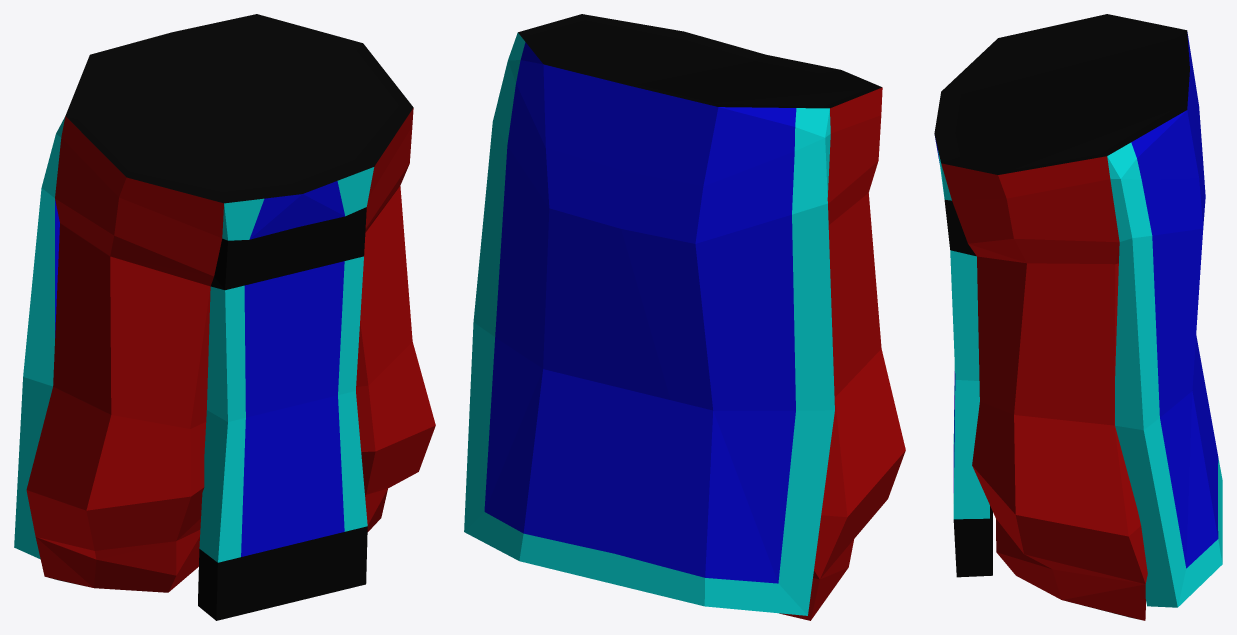
Rendered from Chr_Hips_Male_Static_23.fbx.
3 renders of one model, left to right at view 1: azimuth 30°, elevation 25°; view 2: azimuth 150°, elevation 25°; view 3: azimuth 270°, elevation 25°, orthographic. The views are drawn at different scales.
Visible parts, largest first — view 1: Chr_Hips_Male_23; view 2: Chr_Hips_Male_23; view 3: Chr_Hips_Male_23.
Part boxes in pixels (<box>): Chr_Hips_Male_23: <box>14,14,435,620</box>; Chr_Hips_Male_23: <box>464,14,905,620</box>; Chr_Hips_Male_23: <box>934,14,1222,620</box>.
Bounding box in the file's own units: 41.8 × 55.45 × 30.16.
